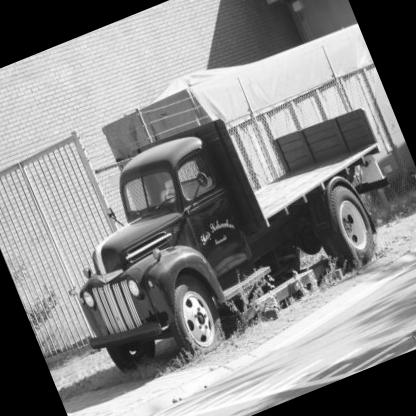truck: (22, 62, 416, 393)
